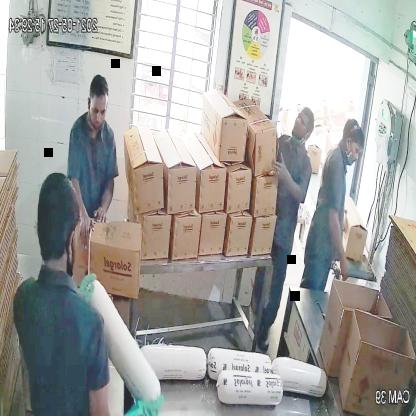no_goggles: (86, 102, 110, 120)
